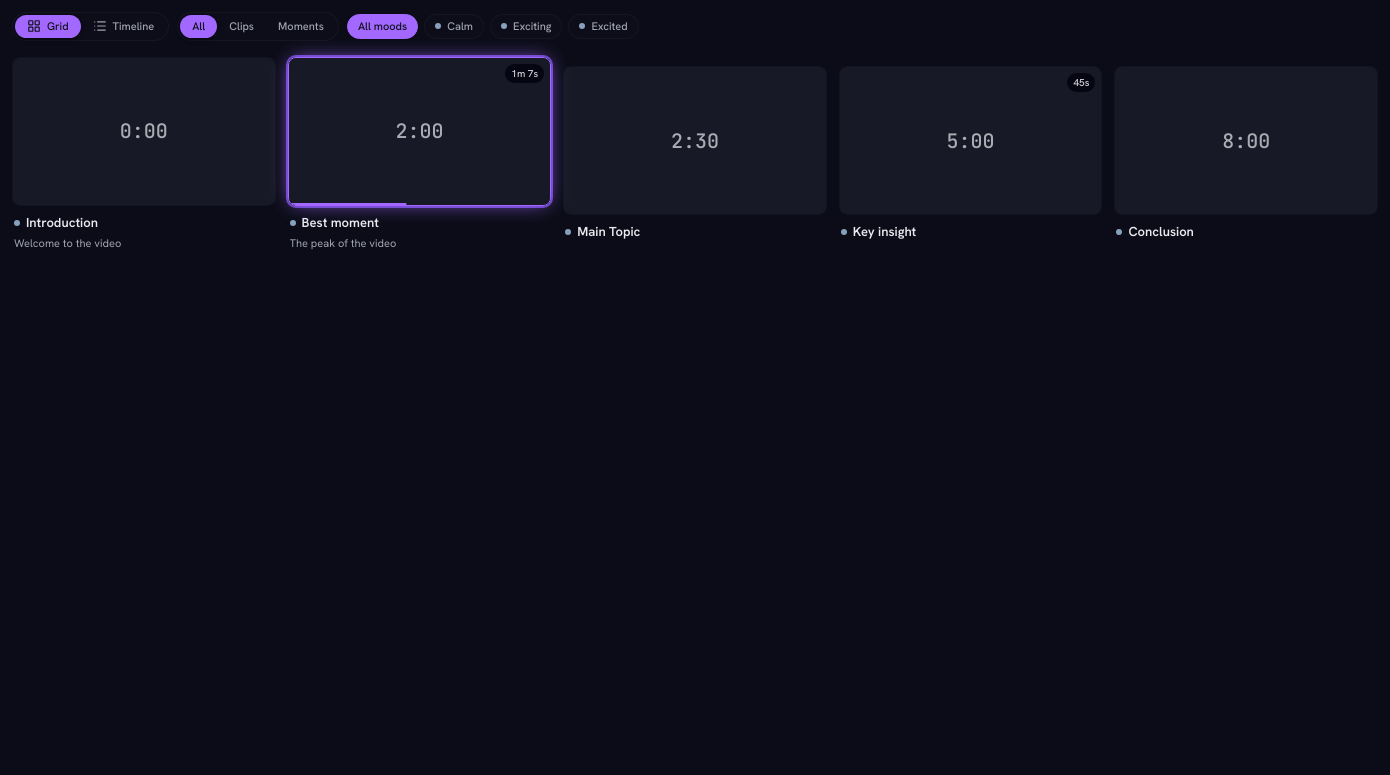
Scenario: MomentTrack › timeline view › marks the active item when currentTime falls inside a clip range
Click the button with test id "view-timeline". click: x=123, y=26
box: x1=81 y1=15 x2=166 y2=38
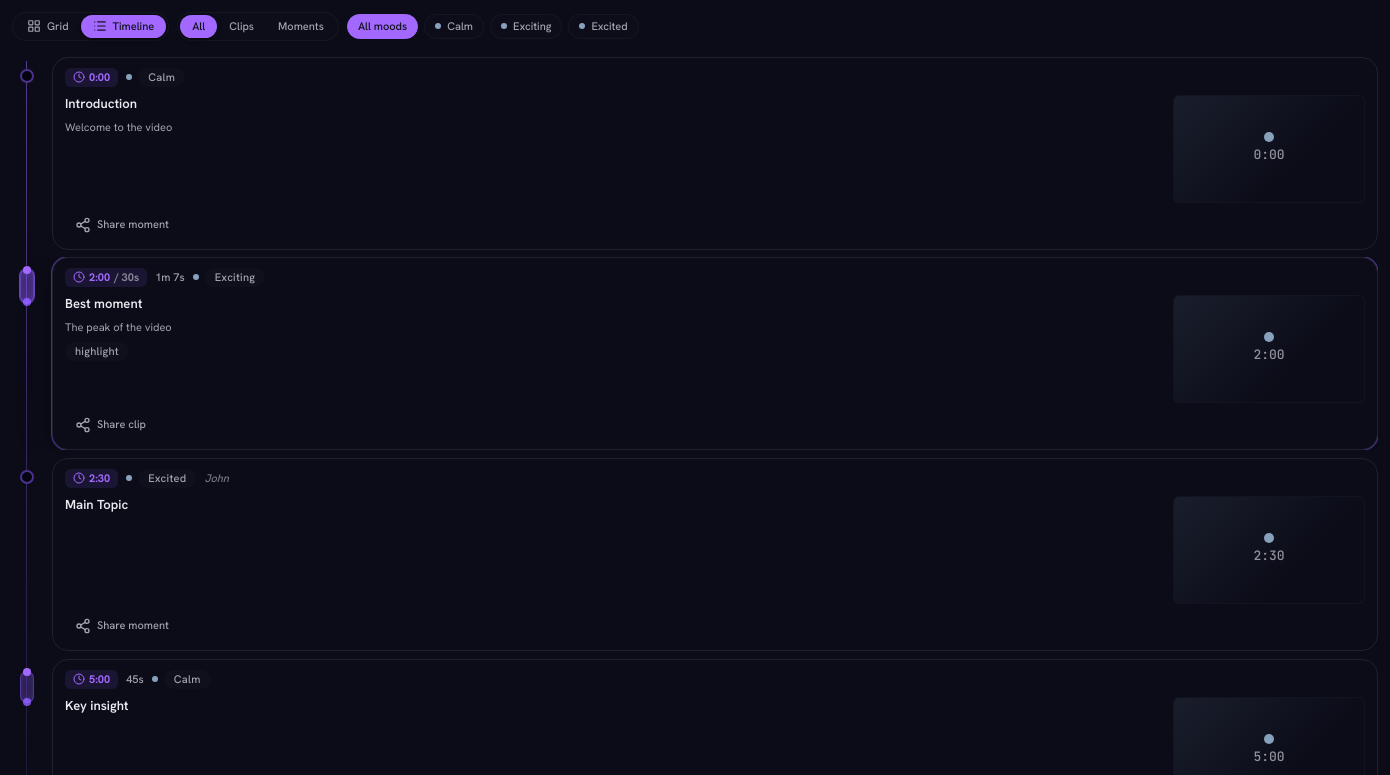
Result: the list item that starts with "30s" shows "Best moment" at x1=65 y1=295 x2=142 y2=312
